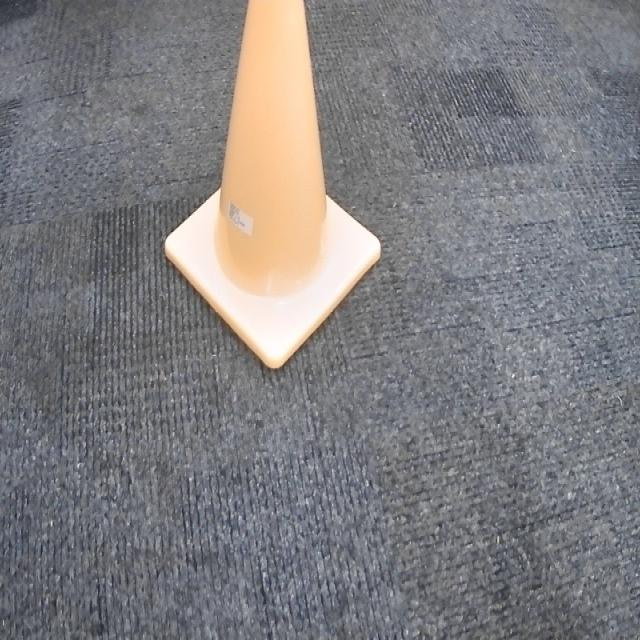cone: (162, 0, 382, 375)
